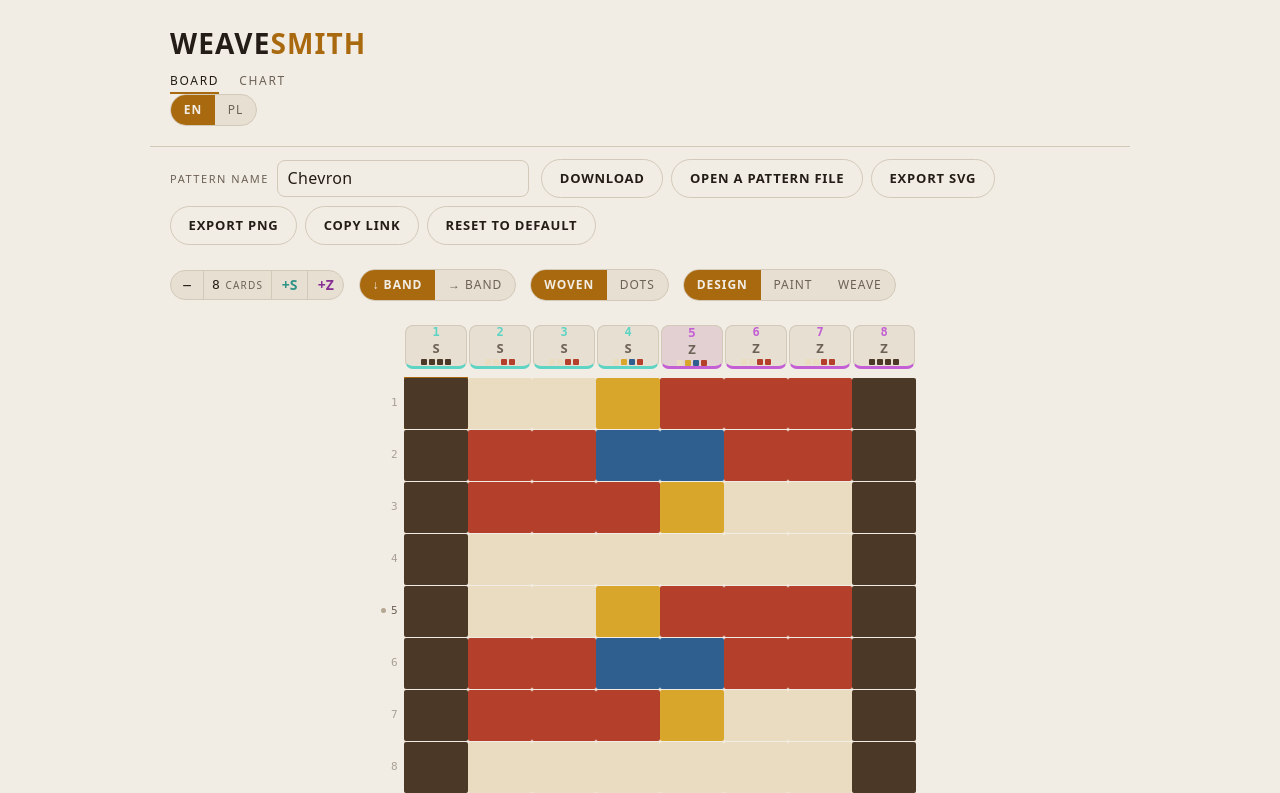
it: language toggle › switches the UI to Polish
The width and height of the screenshot is (1280, 793).
Click the button with aria-label "Polski" at (236, 110), box [215,95,256,125]
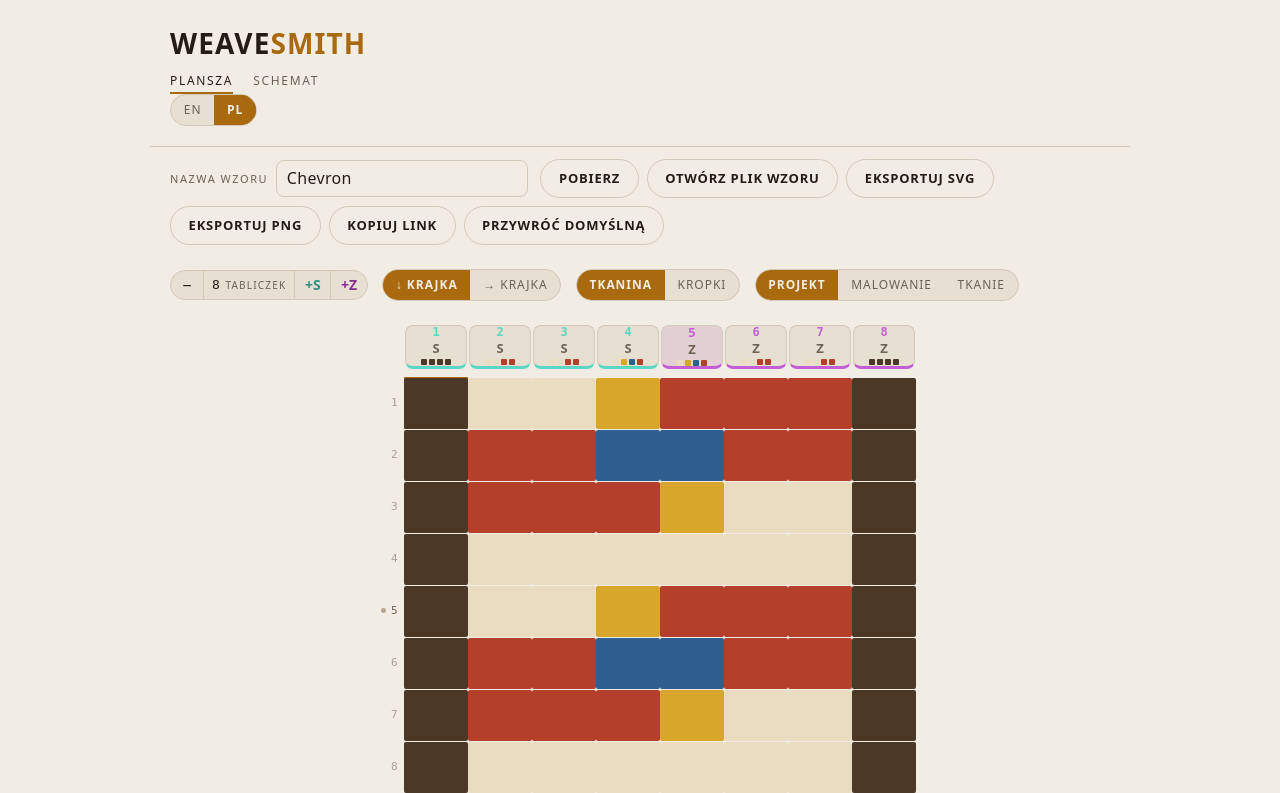
Expected: the link "Plansza" is shown, [170,72,233,94]
